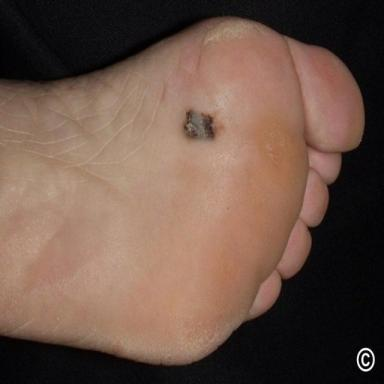Melanoma: (182, 109, 215, 140)
